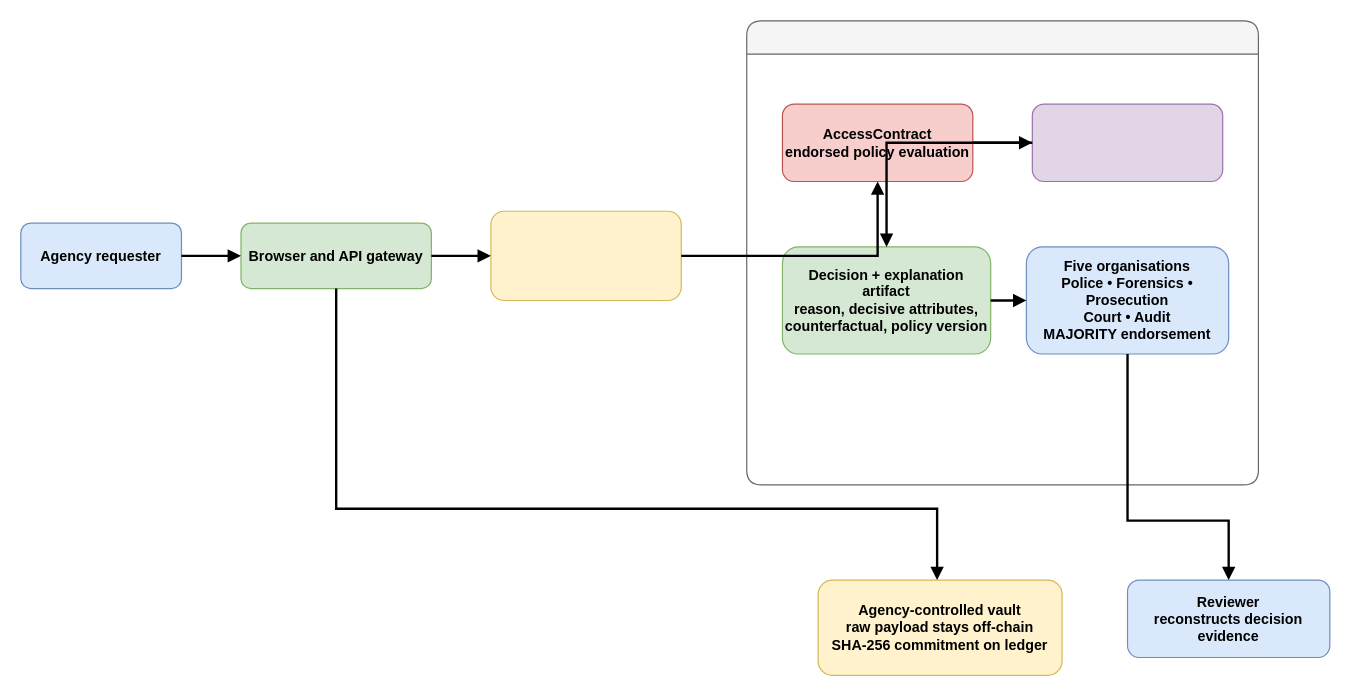
This 1351x696 diagram has some shape labels left out. Each missing label, with the box of its shape:
Fabric Gateway per-user X.509 identity: (490, 210, 681, 300)
Permissioned channel: crimechannel: (746, 20, 1258, 485)
Policy engine ALLOW / DENY / ESCALATE: (1031, 103, 1223, 181)
